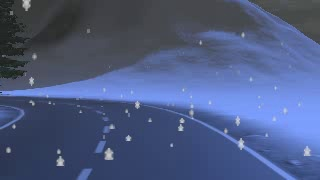Lane: (0, 95, 290, 178)
